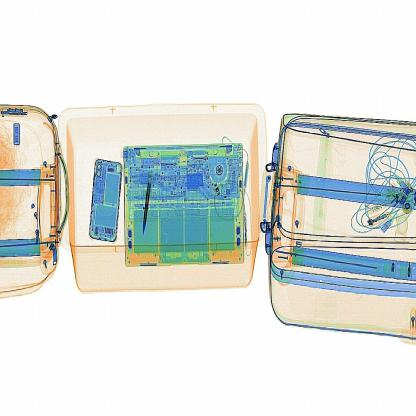gun: (134, 166, 163, 242)
